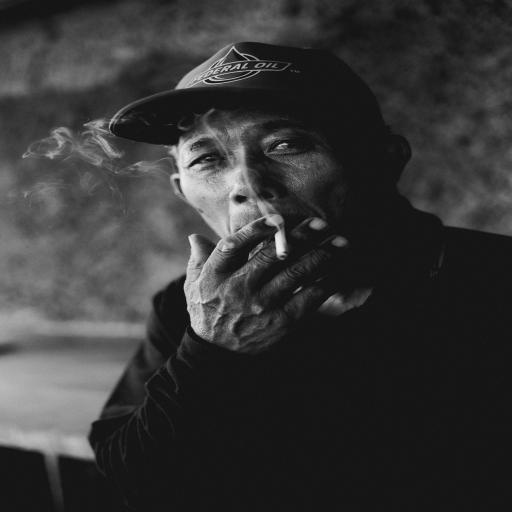merokok: (198, 168, 338, 288)
